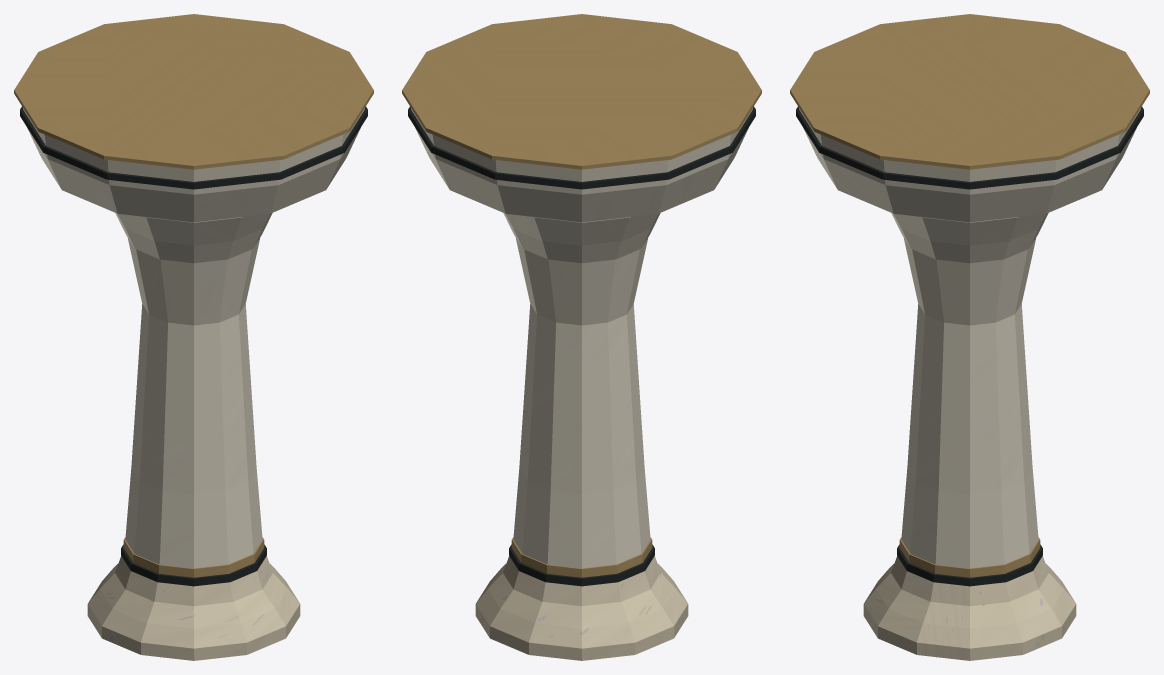
Rendered from AST-STR-001-H426.glb.
The picture shows the model from 3 angles, left to right: view 1: azimuth 30°, elevation 25°; view 2: azimuth 150°, elevation 25°; view 3: azimuth 270°, elevation 25°; orthographic projection.
Parts seen in each view (by area): view 1: STR_CeilingBearing, STR_TaperedShaft, STR_Capital, STR_StoneFoot, STR_CapitalShadow, STR_LowerMetalBand, STR_BaseReveal; view 2: STR_CeilingBearing, STR_TaperedShaft, STR_Capital, STR_StoneFoot, STR_CapitalShadow, STR_LowerMetalBand, STR_BaseReveal; view 3: STR_CeilingBearing, STR_TaperedShaft, STR_Capital, STR_StoneFoot, STR_CapitalShadow, STR_LowerMetalBand, STR_BaseReveal.
Boxes of the visible parts, x1=… form: STR_CeilingBearing: x1=14, y1=14, x2=373, y2=169; STR_TaperedShaft: x1=125, y1=238, x2=262, y2=568; STR_Capital: x1=23, y1=108, x2=364, y2=263; STR_StoneFoot: x1=87, y1=556, x2=300, y2=660; STR_CapitalShadow: x1=20, y1=106, x2=367, y2=189; STR_LowerMetalBand: x1=123, y1=537, x2=264, y2=577; STR_BaseReveal: x1=121, y1=544, x2=266, y2=586; STR_CeilingBearing: x1=402, y1=14, x2=761, y2=169; STR_TaperedShaft: x1=513, y1=238, x2=650, y2=568; STR_Capital: x1=411, y1=108, x2=752, y2=263; STR_StoneFoot: x1=475, y1=556, x2=688, y2=660; STR_CapitalShadow: x1=408, y1=106, x2=755, y2=189; STR_LowerMetalBand: x1=511, y1=537, x2=652, y2=577; STR_BaseReveal: x1=509, y1=544, x2=654, y2=586; STR_CeilingBearing: x1=790, y1=14, x2=1149, y2=169; STR_TaperedShaft: x1=901, y1=238, x2=1038, y2=568; STR_Capital: x1=799, y1=108, x2=1140, y2=263; STR_StoneFoot: x1=863, y1=556, x2=1076, y2=660; STR_CapitalShadow: x1=796, y1=106, x2=1143, y2=189; STR_LowerMetalBand: x1=899, y1=537, x2=1040, y2=577; STR_BaseReveal: x1=897, y1=544, x2=1042, y2=586.
Bounding box in the file's own units: 2.64 × 4.26 × 2.64.
Materials: 5 (4 with a texture image).
